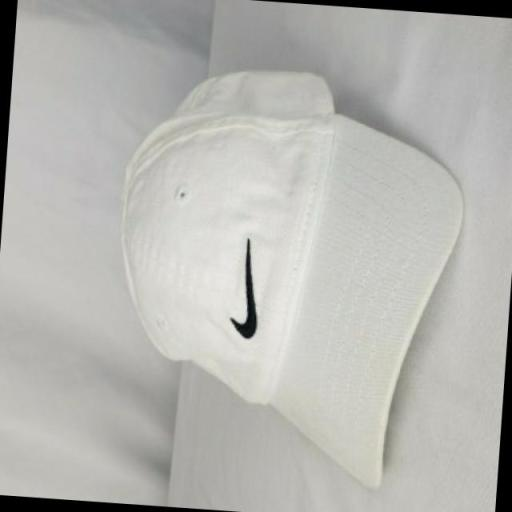Nike: (222, 234, 272, 348)
